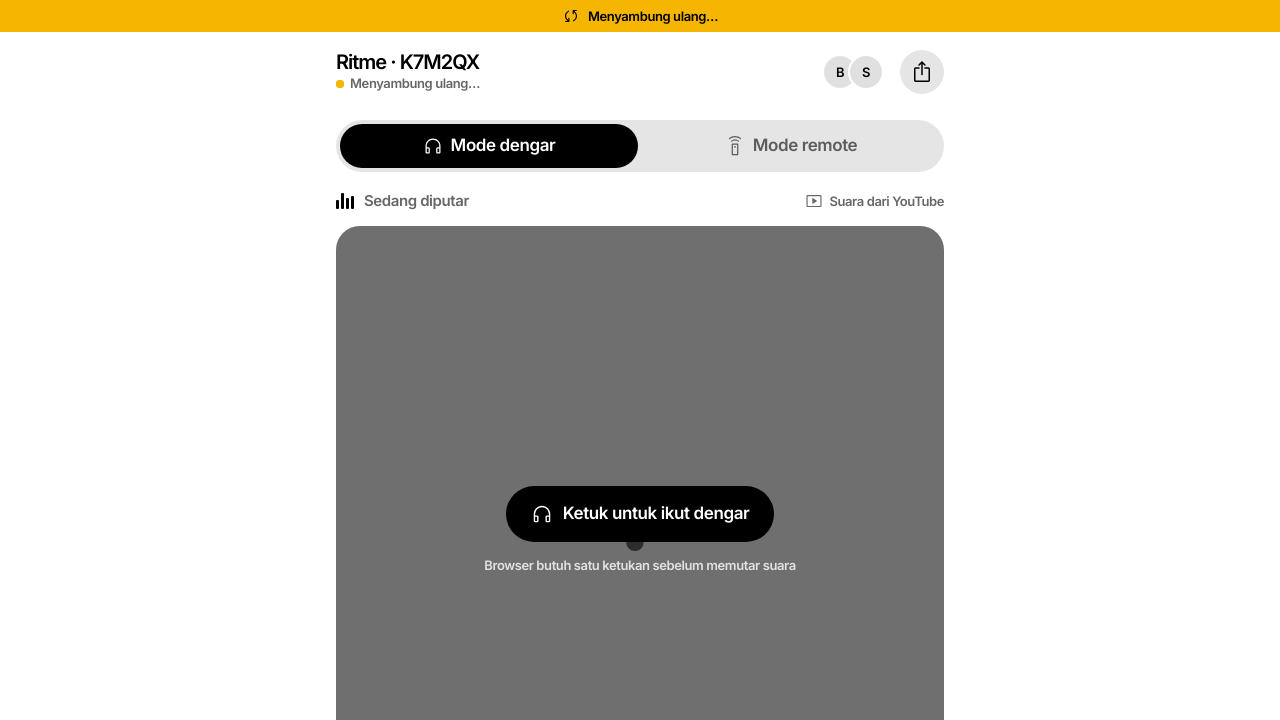
Test case: the reconnect banner › is still announced while a sheet is open: never inside an inert or aria-hidden part of the page
Click the button named "2 anggota": (853, 72) [818,50,888,94]
(page scrolled)
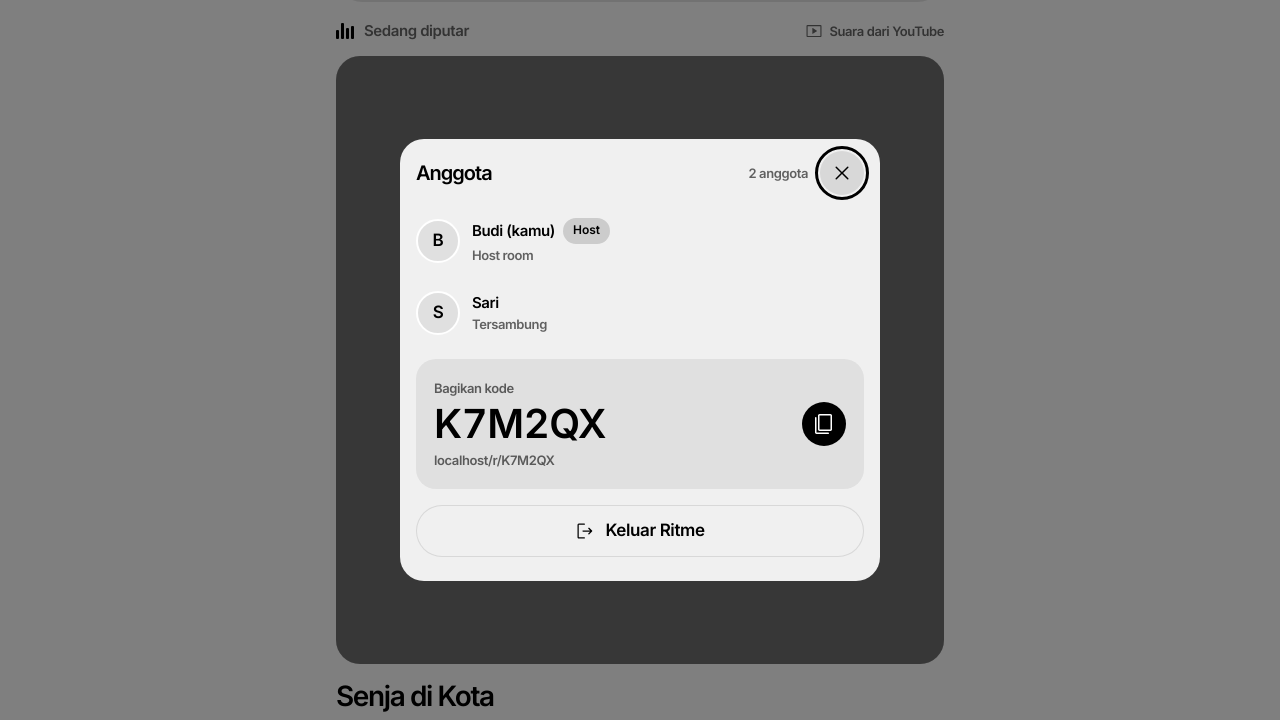
Expected: the element with class "stage" is shown, [336,56,944,664]
Expected: the dialog "Anggota" is shown, [400,139,880,581]
